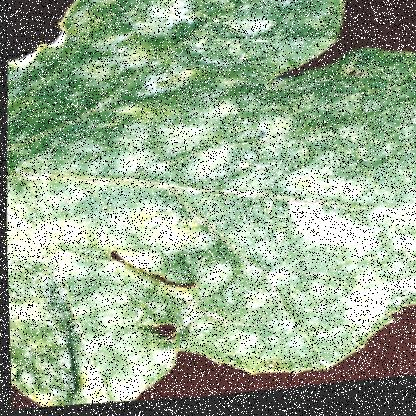PowderyMildew: (165, 108, 379, 230), (217, 215, 379, 337), (11, 110, 142, 251)
